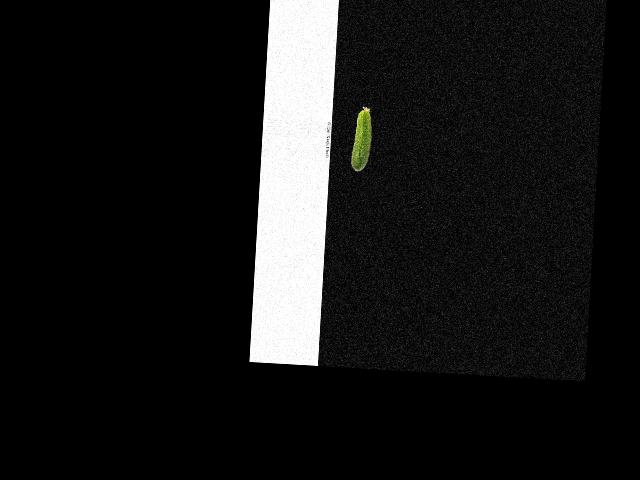cucumber: (350, 106, 373, 172)
